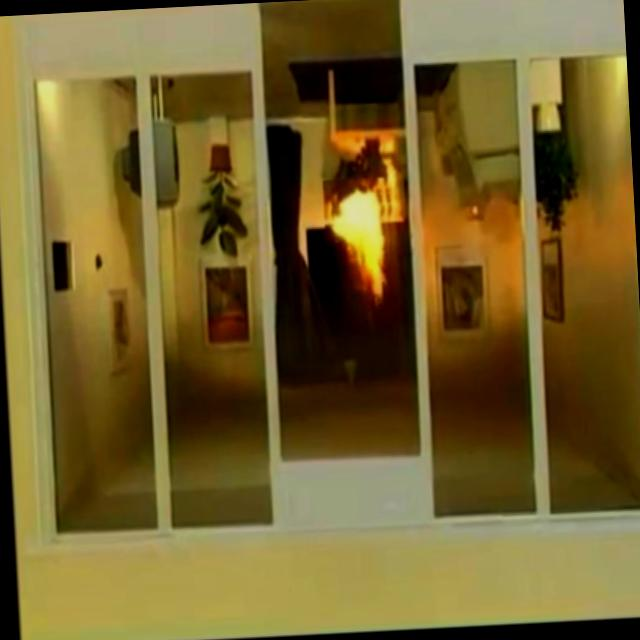fire: (320, 184, 406, 310)
